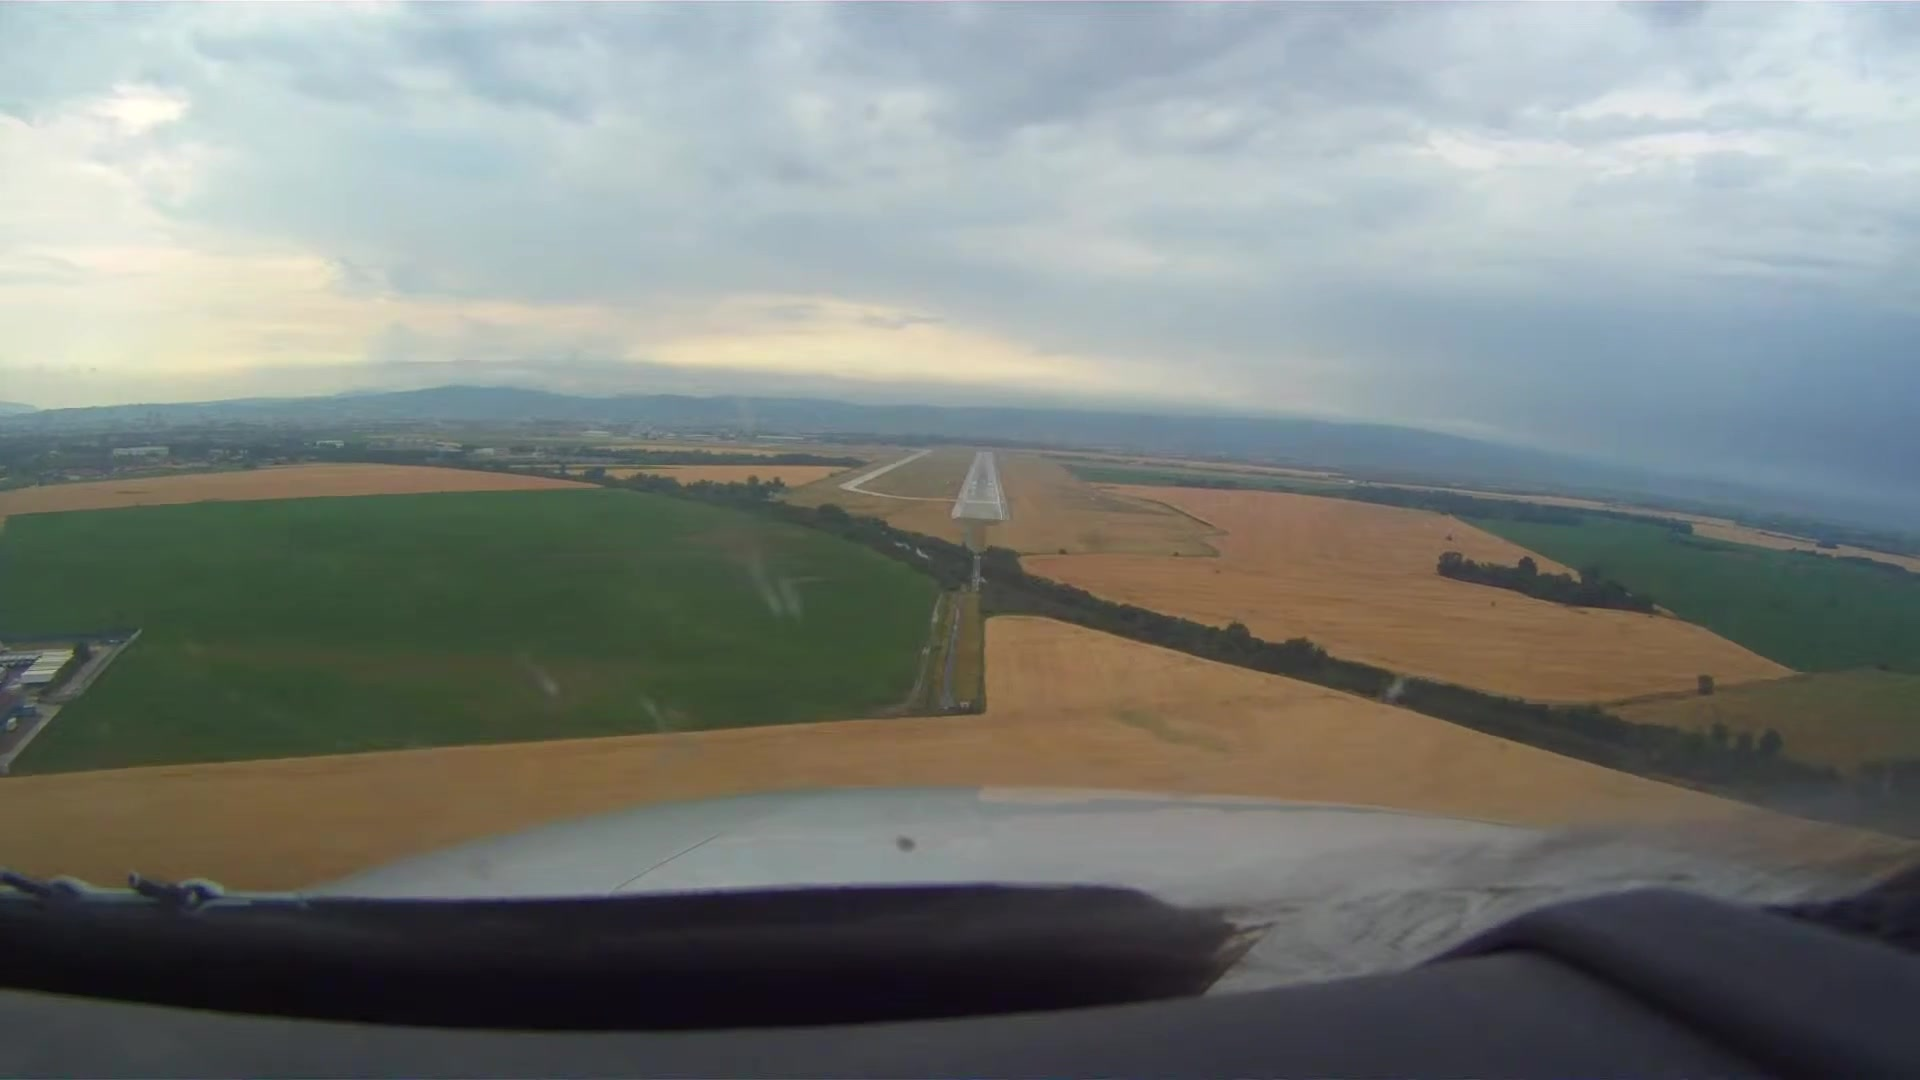entrance: (964, 497, 1000, 504)
runway: (951, 450, 1006, 520)
